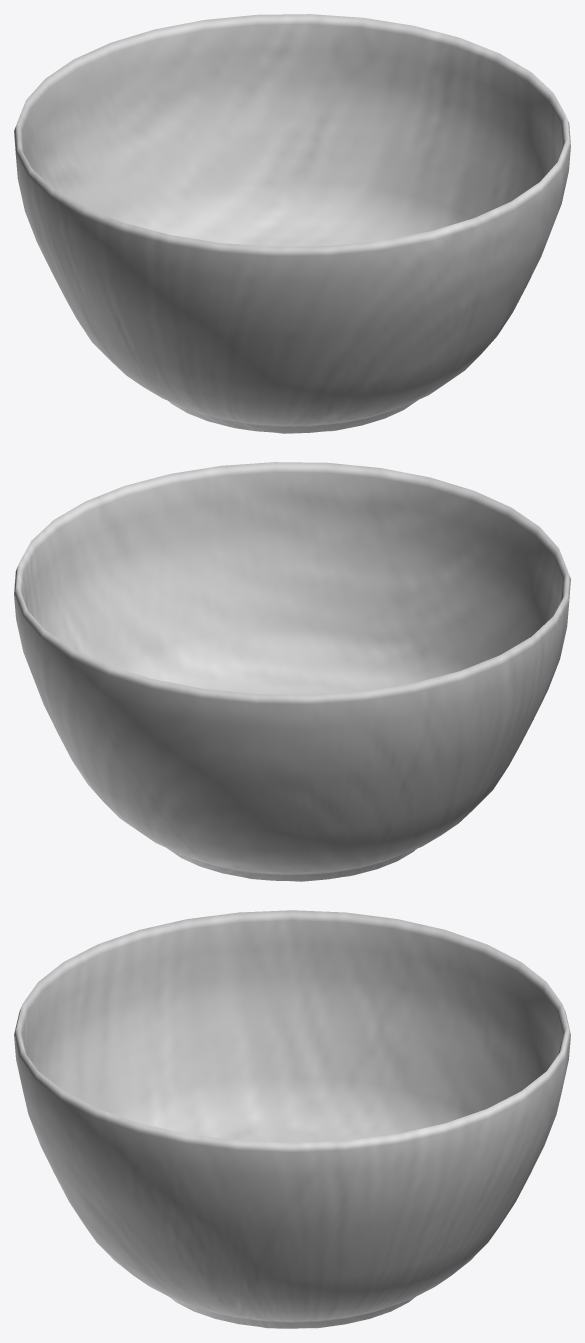
File: SmallBowl.fbx
3 renders of one model, top to bottom at view 1: azimuth 30°, elevation 25°; view 2: azimuth 150°, elevation 25°; view 3: azimuth 270°, elevation 25°, orthographic.
Parts seen in each view (by area): view 1: Bowl; view 2: Bowl; view 3: Bowl.
Part boxes in pixels (x1=…): Bowl: x1=14, y1=14, x2=570, y2=433; Bowl: x1=14, y1=462, x2=570, y2=881; Bowl: x1=14, y1=910, x2=570, y2=1328.
Size of the model in its own units: 12.28 by 6.09 by 12.28.
1 material, 1 textured.
